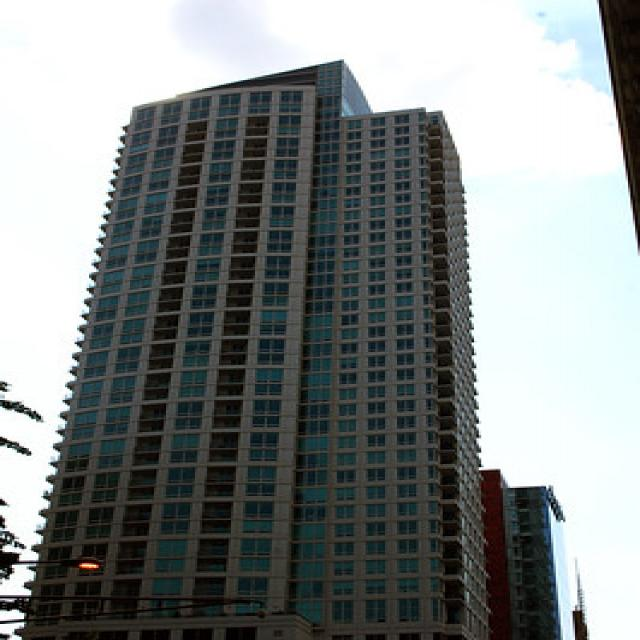Normal_building: (17, 54, 503, 640)
